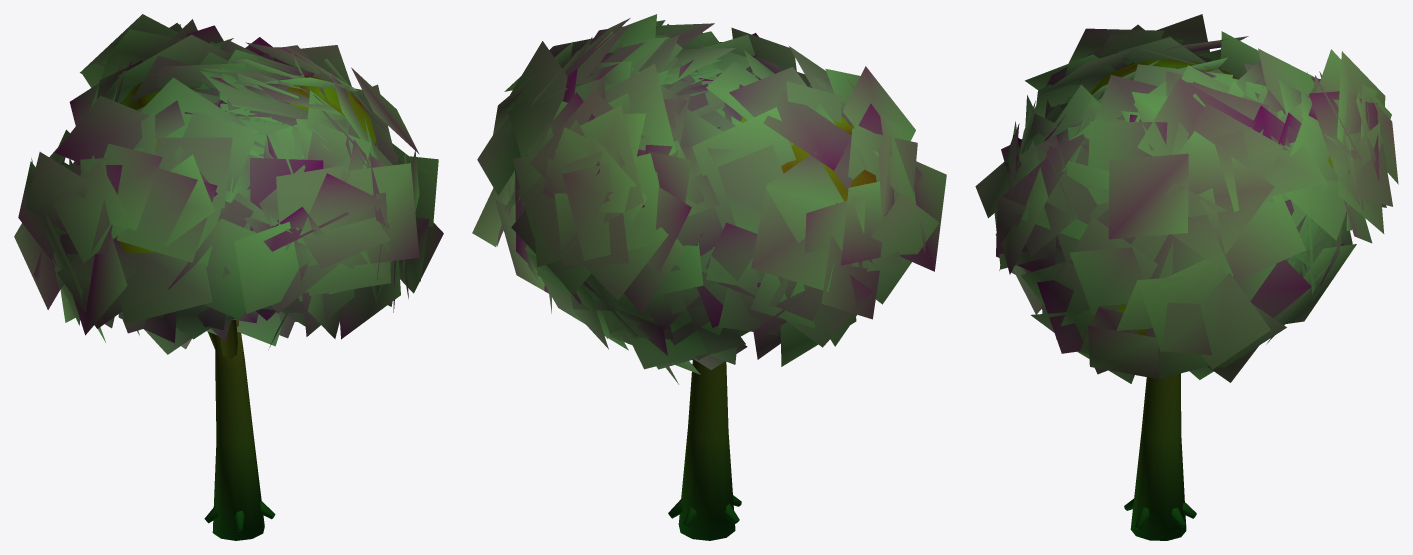
Rendered from tree_oak_a.glb.
The picture shows the model from 3 angles, left to right: view 1: azimuth 30°, elevation 25°; view 2: azimuth 150°, elevation 25°; view 3: azimuth 270°, elevation 25°; orthographic projection. The views are drawn at different scales.
Parts seen in each view (by area): view 1: tree_oak_a; view 2: tree_oak_a; view 3: tree_oak_a.
Boxes of the visible parts, x1=… form: tree_oak_a: x1=14, y1=14, x2=443, y2=540; tree_oak_a: x1=472, y1=14, x2=946, y2=540; tree_oak_a: x1=975, y1=14, x2=1398, y2=540.
Size of what is drawn, in the model's own units: 6.94 by 8.03 by 6.37.
